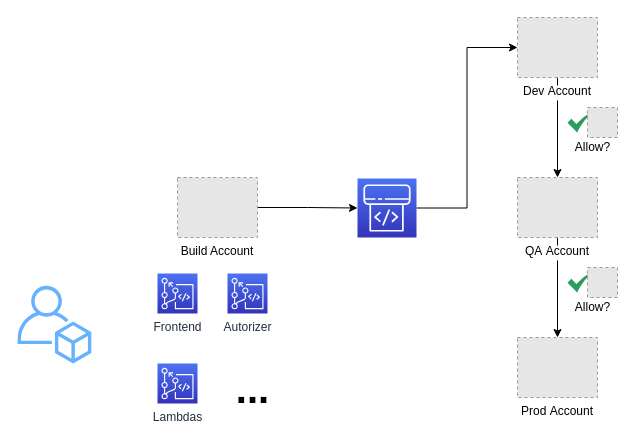
The diagram is 644 pixels wide and 442 high, and some of its shapes have lost their labels. Grey dashed boxes stand in for pictures. Here are the shapes that lost their labels. From the top down, the box of each, then its label:
(356, 178, 416, 238): CodePipeline
(17, 285, 91, 363): Developer
